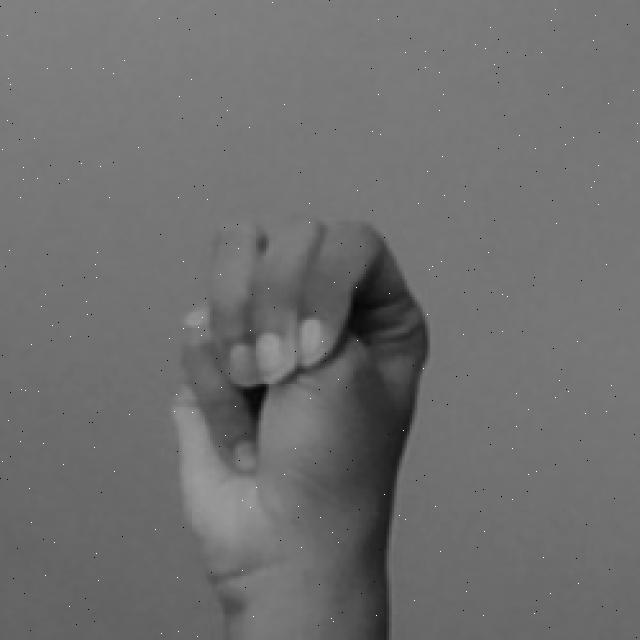M: (144, 210, 446, 640)
